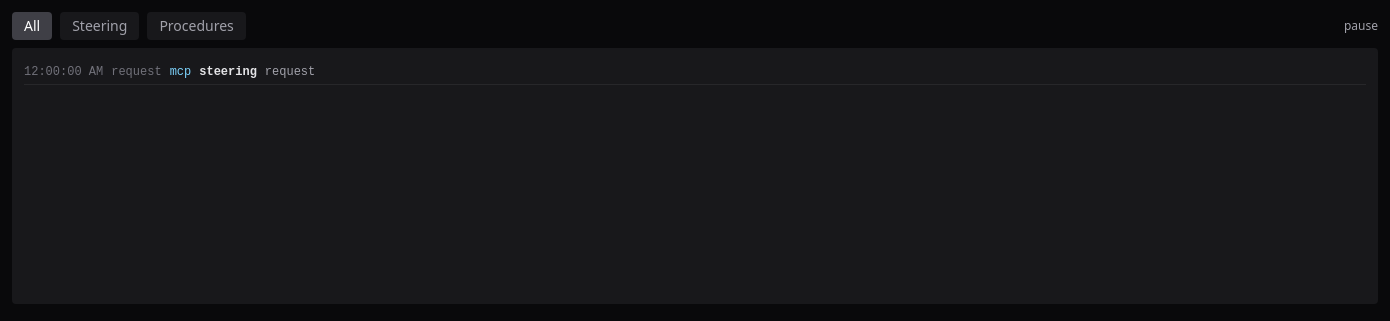
Test: LogsPanel › keeps steering requests out of the procedures stream
The width and height of the screenshot is (1390, 321).
What coordinates should you click on to do the following:
click the button "procedures"
I would click on:
 (197, 26)
Its box is x1=147 y1=12 x2=246 y2=40.
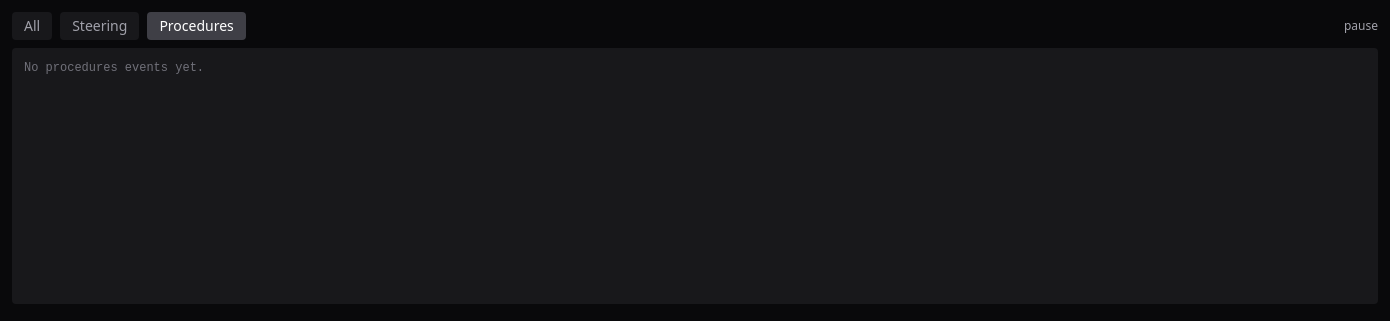
Expected: the text "No procedures events yet." is shown, x1=24 y1=61 x2=204 y2=75
